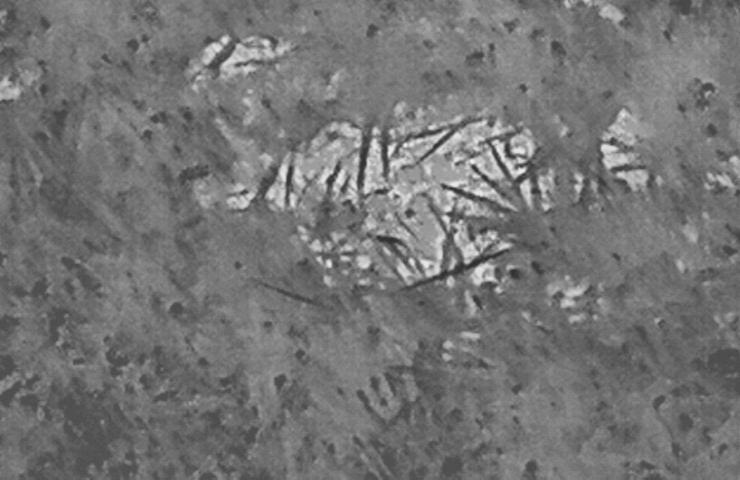landmines: (261, 97, 554, 297)
